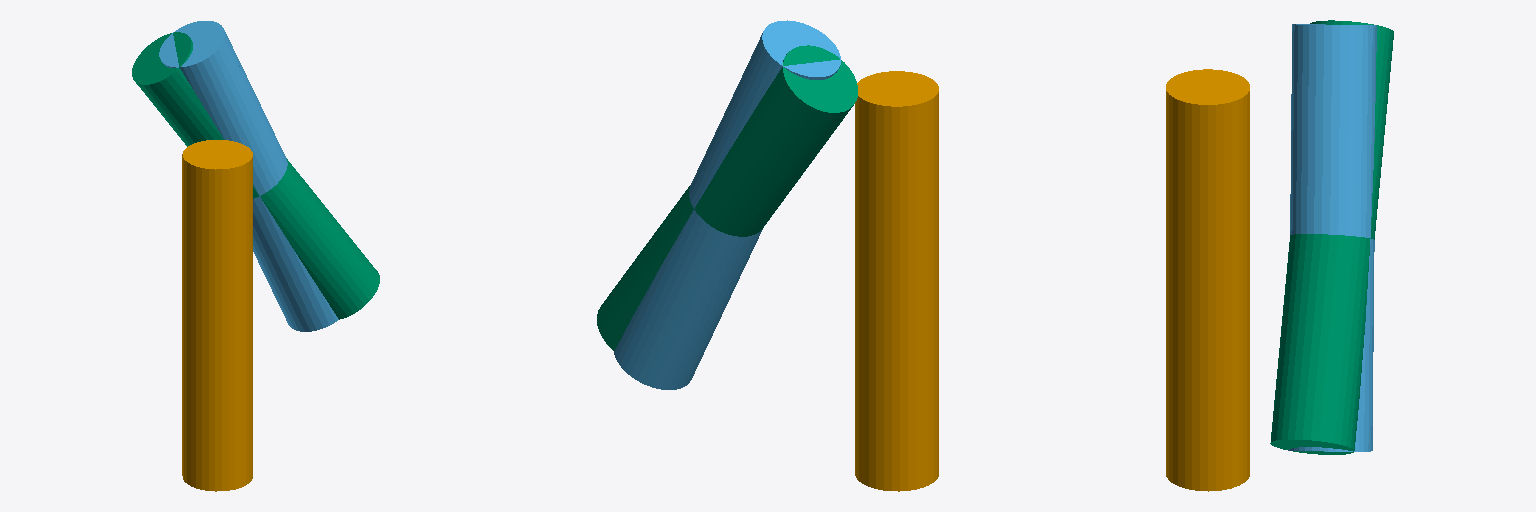
robot.urdf — pepe:
<?xml version="1.0"?><robot name="pepe">
	<link name="0">
		<visual>
			<geometry>
				<cylinder length="2.8219324425915286" radius="0.2802727606231159"/>
			</geometry>
		</visual>
		<collision>
			<geometry>
				<cylinder length="2.8219324425915286" radius="0.2802727606231159"/>
			</geometry>
		</collision>
		<inertial>
			<mass value="0.6963992066119021"/>
			<inertia ixx="0.03" iyy="0.03" izz="0.03" ixy="0" ixz="0" iyx="0"/>
		</inertial>
	</link>
	<link name="11">
		<visual>
			<geometry>
				<cylinder length="2.8219324425915286" radius="0.2802727606231159"/>
			</geometry>
		</visual>
		<collision>
			<geometry>
				<cylinder length="2.8219324425915286" radius="0.2802727606231159"/>
			</geometry>
		</collision>
		<inertial>
			<mass value="0.6963992066119021"/>
			<inertia ixx="0.03" iyy="0.03" izz="0.03" ixy="0" ixz="0" iyx="0"/>
		</inertial>
	</link>
	<link name="12">
		<visual>
			<geometry>
				<cylinder length="2.8219324425915286" radius="0.2802727606231159"/>
			</geometry>
		</visual>
		<collision>
			<geometry>
				<cylinder length="2.8219324425915286" radius="0.2802727606231159"/>
			</geometry>
		</collision>
		<inertial>
			<mass value="0.6963992066119021"/>
			<inertia ixx="0.03" iyy="0.03" izz="0.03" ixy="0" ixz="0" iyx="0"/>
		</inertial>
	</link>
	<joint name="11_to_0" type="revolute">
		<parent link="0"/>
		<child link="11"/>
		<axis xyz="0 0 1"/>
		<limit effort="1" upper="-3.1415" lower="3.1415" velocity="1"/>
		<origin rpy="5.8952369049848725 3.3106343739814474 4.297380134307079" xyz="0.8262303950921 0.8226883777035289 0.6965361425547957"/>
	</joint>
	<joint name="12_to_0" type="revolute">
		<parent link="0"/>
		<child link="12"/>
		<axis xyz="0 0 1"/>
		<limit effort="1" upper="-3.1415" lower="3.1415" velocity="1"/>
		<origin rpy="8.842855357477308 3.3106343739814474 4.297380134307079" xyz="0.8262303950921 0.8226883777035289 0.6965361425547957"/>
	</joint>
</robot>

--- Render facts (derived) ---
3 views of the same robot in one strip: view 1: azimuth 30°, elevation 25°; view 2: azimuth 150°, elevation 25°; view 3: azimuth 270°, elevation 25° (orthographic).
Model pepe with 3 links and 2 joints (2 revolute), rooted at 0, posed every joint at zero.
Visible links, largest first — view 1: 0, 11, 12; view 2: 0, 11, 12; view 3: 0, 12, 11.
Boxes of the visible links, x1=… form: 0: x1=182, y1=140, x2=252, y2=491; 11: x1=159, y1=21, x2=338, y2=331; 12: x1=132, y1=32, x2=379, y2=319; 0: x1=855, y1=71, x2=938, y2=491; 11: x1=614, y1=20, x2=840, y2=389; 12: x1=597, y1=45, x2=857, y2=350; 0: x1=1166, y1=69, x2=1249, y2=491; 12: x1=1270, y1=20, x2=1393, y2=454; 11: x1=1288, y1=24, x2=1376, y2=451.
Bounding box of the posed robot: 2.13 × 1.51 × 3.51 m (x, y, z).
Geometry: primitives only (box / cylinder / sphere), no mesh files.
